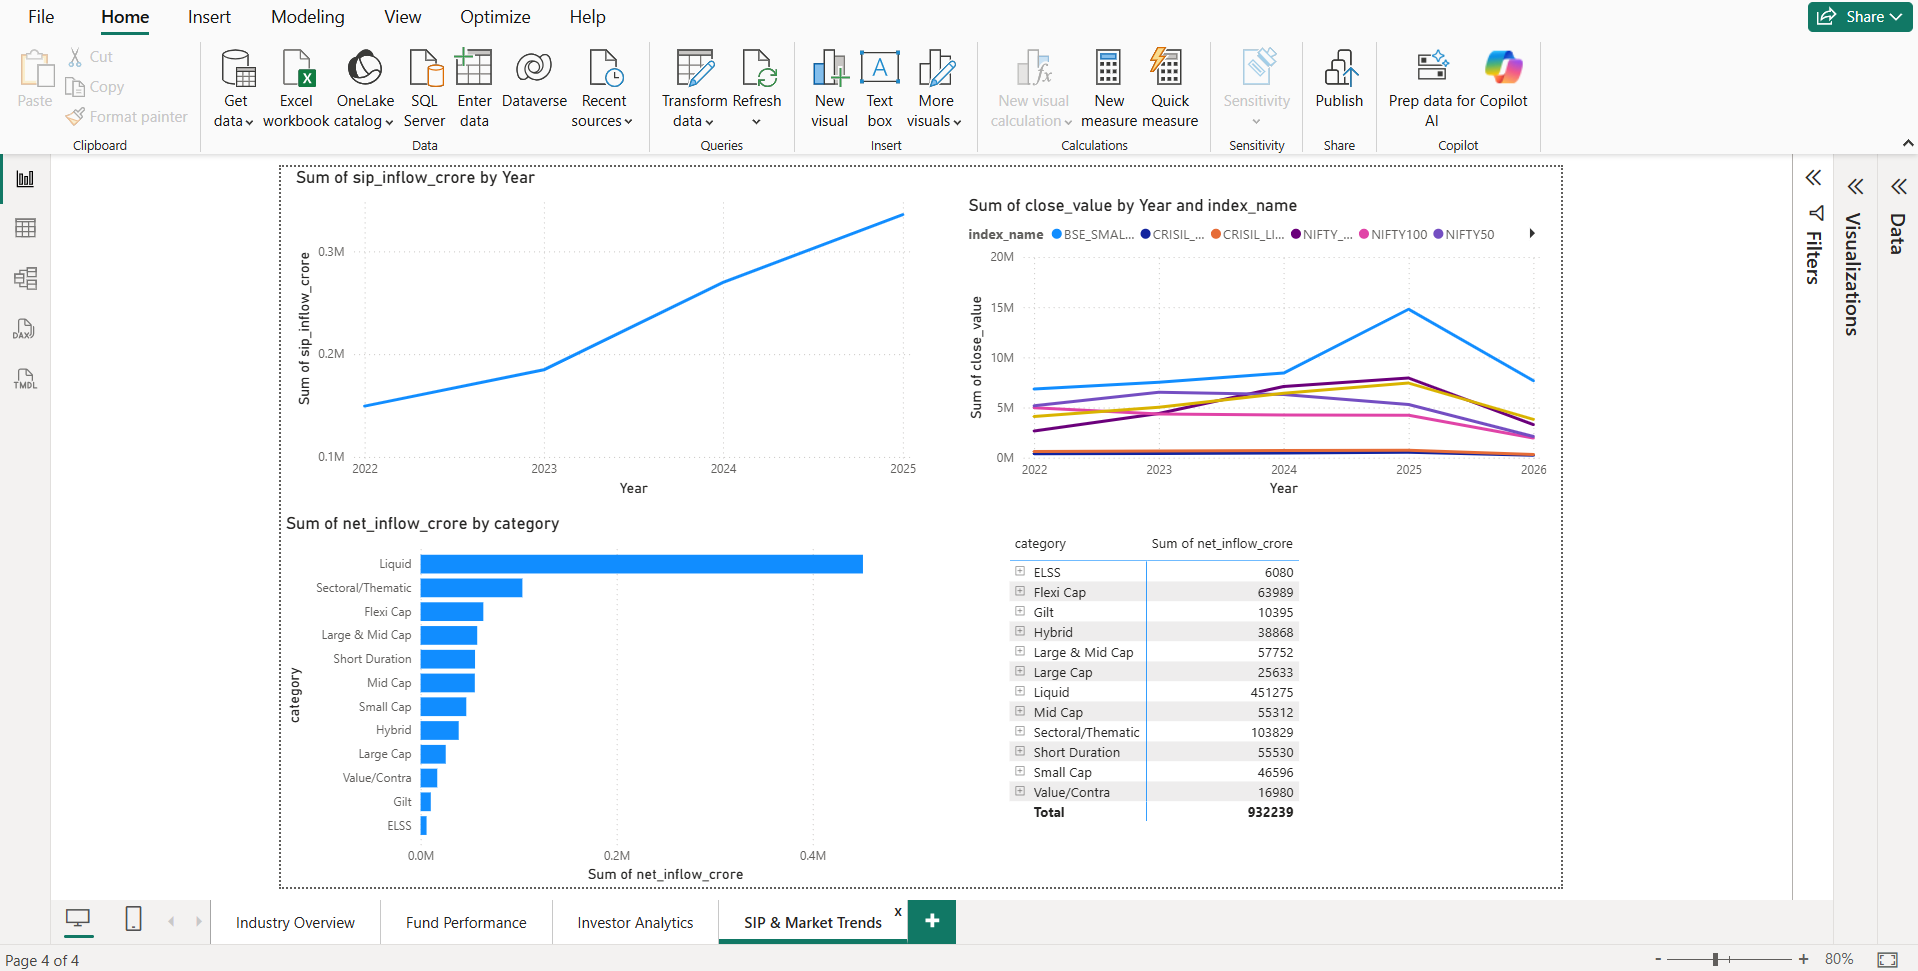

What the dashboard file says about the page in this screenshot:
{"tool":"powerbi","page":{"name":"SIP & Market Trends","canvas":[1280,720],"ordinal":3},"visuals":[{"type":"lineChart","fields":{"Category":["04_monthly_sip_inflows.month.Variation.Date Hierarchy.Year","04_monthly_sip_inflows.month.Variation.Date Hierarchy.Quarter","04_monthly_sip_inflows.month.Variation.Date Hierarchy.Month","04_monthly_sip_inflows.month.Variation.Date Hierarchy.Day"],"Y":["Sum(04_monthly_sip_inflows.sip_inflow_crore)"]},"box":[9.5,0,630,333.9],"z":0},{"type":"clusteredBarChart","fields":{"Category":["05_category_inflows.category"],"Y":["Sum(05_category_inflows.net_inflow_crore)"]},"box":[0,346.1,648.9,374.5],"z":1000},{"type":"pivotTable","fields":{"Rows":["05_category_inflows.category","05_category_inflows.month.Variation.Date Hierarchy.Year","05_category_inflows.month.Variation.Date Hierarchy.Quarter","05_category_inflows.month.Variation.Date Hierarchy.Month","05_category_inflows.month.Variation.Date Hierarchy.Day"],"Values":["Sum(05_category_inflows.net_inflow_crore)"]},"box":[723.3,359.6,513.7,361],"z":2000},{"type":"lineChart","fields":{"Category":["10_benchmark_indices.date.Variation.Date Hierarchy.Year","10_benchmark_indices.date.Variation.Date Hierarchy.Quarter","10_benchmark_indices.date.Variation.Date Hierarchy.Month","10_benchmark_indices.date.Variation.Date Hierarchy.Day"],"Y":["Sum(10_benchmark_indices.close_value)"],"Series":["10_benchmark_indices.index_name"]},"box":[682.7,27,588.1,306.9],"z":3000}]}

Visuals, with their boxes on the page's 1280x720 design canvas (x1, y1, x2, y2). These are canvas units, not pixel positions in the 1918x971 screenshot, which may show the page scaled, cropped or inside an application window:
lineChart - 04_monthly_sip_inflows.month.Variation.Date Hierarchy.Year x 04_monthly_sip_inflows.month.Variation.Date Hierarchy.Quarter: Rect(10, 0, 640, 334)
clusteredBarChart - 05_category_inflows.category x Sum(05_category_inflows.net_inflow_crore): Rect(0, 346, 649, 721)
pivotTable - 05_category_inflows.category x 05_category_inflows.month.Variation.Date Hierarchy.Year: Rect(723, 360, 1237, 721)
lineChart - 10_benchmark_indices.date.Variation.Date Hierarchy.Year x 10_benchmark_indices.date.Variation.Date Hierarchy.Quarter: Rect(683, 27, 1271, 334)
